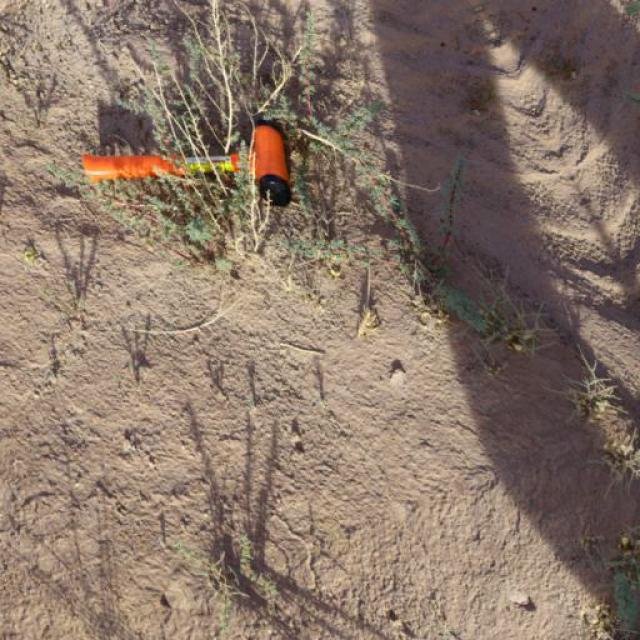mallet: (79, 116, 295, 208)
